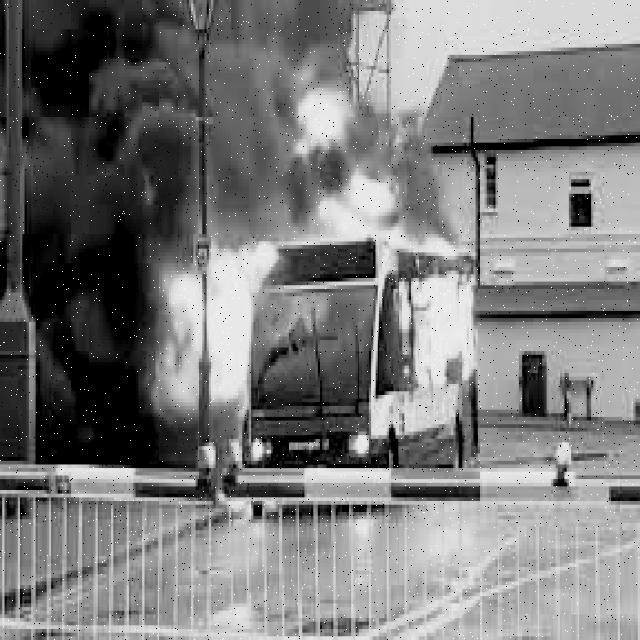api: (266, 60, 475, 261), (148, 228, 286, 444), (392, 261, 488, 385)
